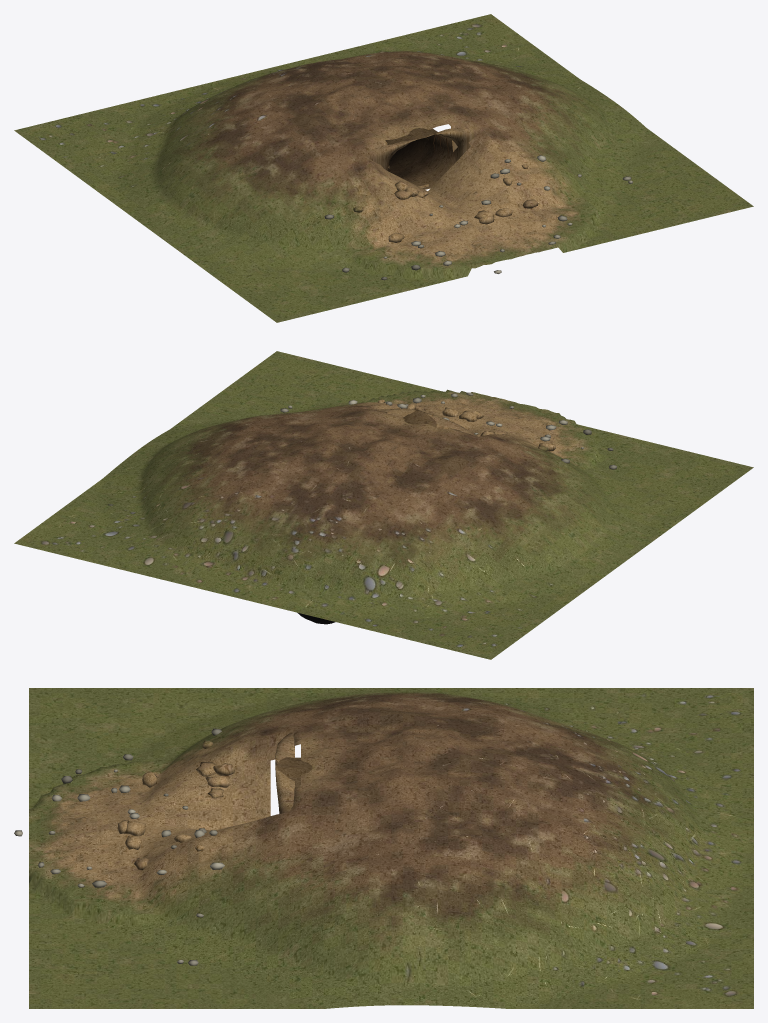
The model's file is owl_burrow.glb.
3 renders of one model, top to bottom at view 1: azimuth 30°, elevation 25°; view 2: azimuth 150°, elevation 25°; view 3: azimuth 270°, elevation 25°, orthographic. The views are drawn at different scales.
Parts seen in each view (by area): view 1: owl_burrow, owl_clods, owl_pebbles; view 2: owl_burrow, owl_clods, owl_pebbles; view 3: owl_burrow, owl_clods, owl_pebbles.
Boxes of the visible parts, x1,y1,x2,y2 form: owl_burrow: (14, 14, 753, 322); owl_clods: (353, 164, 538, 242); owl_pebbles: (324, 134, 632, 280); owl_burrow: (14, 351, 753, 659); owl_clods: (378, 399, 555, 451); owl_pebbles: (280, 392, 617, 469); owl_burrow: (29, 688, 753, 1008); owl_clods: (117, 740, 235, 870); owl_pebbles: (14, 728, 224, 965).
Bounding box in the file's own units: 2.2 × 0.6193 × 2.14.
3 materials, 2 textured.
